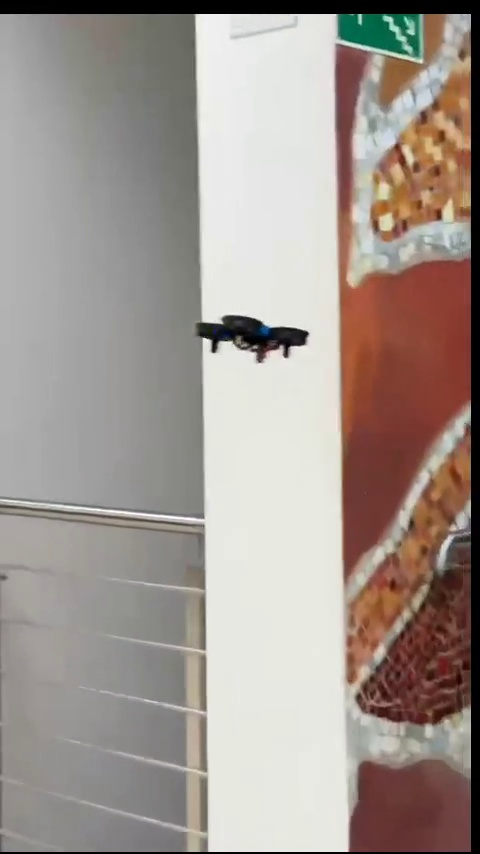drone: (200, 315, 312, 360)
